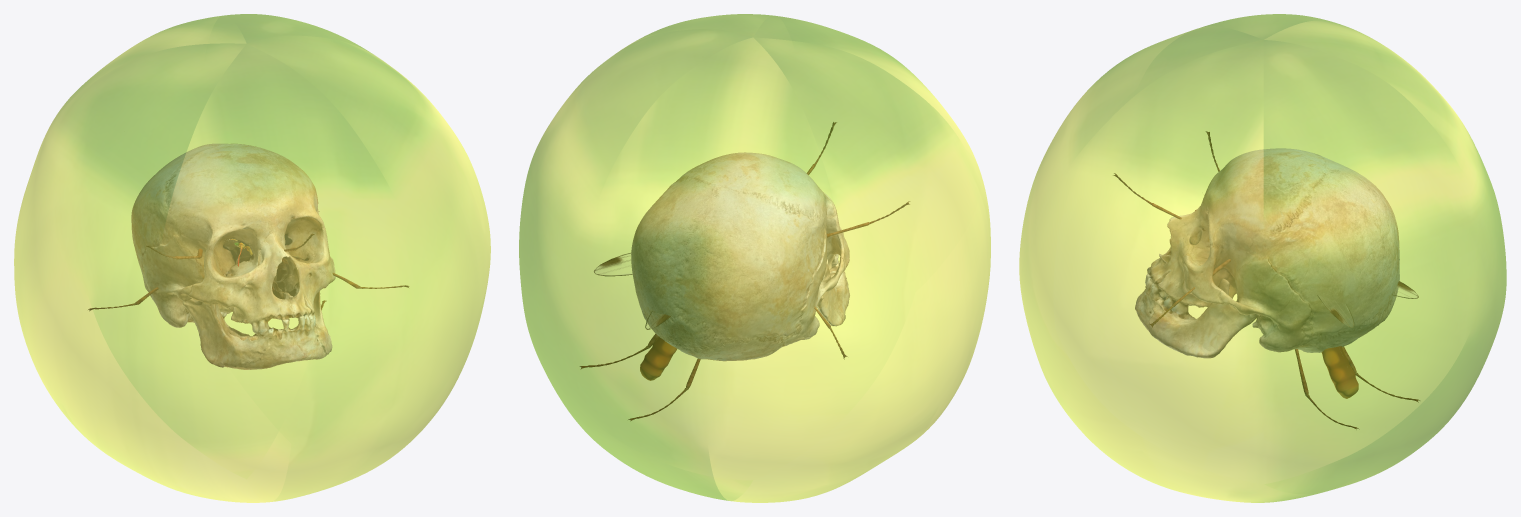
File: experiemental.glb
3 views of the same model, side by side, from view 1: azimuth 30°, elevation 25°; view 2: azimuth 150°, elevation 25°; view 3: azimuth 270°, elevation 25° (orthographic). The views are drawn at different scales.
Visible parts, largest first — view 1: Icosphere, Skull, AnophelesBody; view 2: Icosphere, Skull, AnophelesBody; view 3: Icosphere, Skull, AnophelesBody.
Part boxes in pixels (x1,y1,x2,y2): Icosphere: (14, 14, 490, 502); Skull: (131, 143, 335, 369); AnophelesBody: (88, 233, 408, 321); Icosphere: (519, 14, 990, 502); Skull: (631, 152, 849, 361); AnophelesBody: (580, 122, 909, 420); Icosphere: (1019, 14, 1506, 502); Skull: (1135, 148, 1399, 358); AnophelesBody: (1113, 131, 1419, 428).
Size of the model in its own units: 0.5372 by 0.5456 by 0.541.
Materials: 5 (5 with a texture image).
